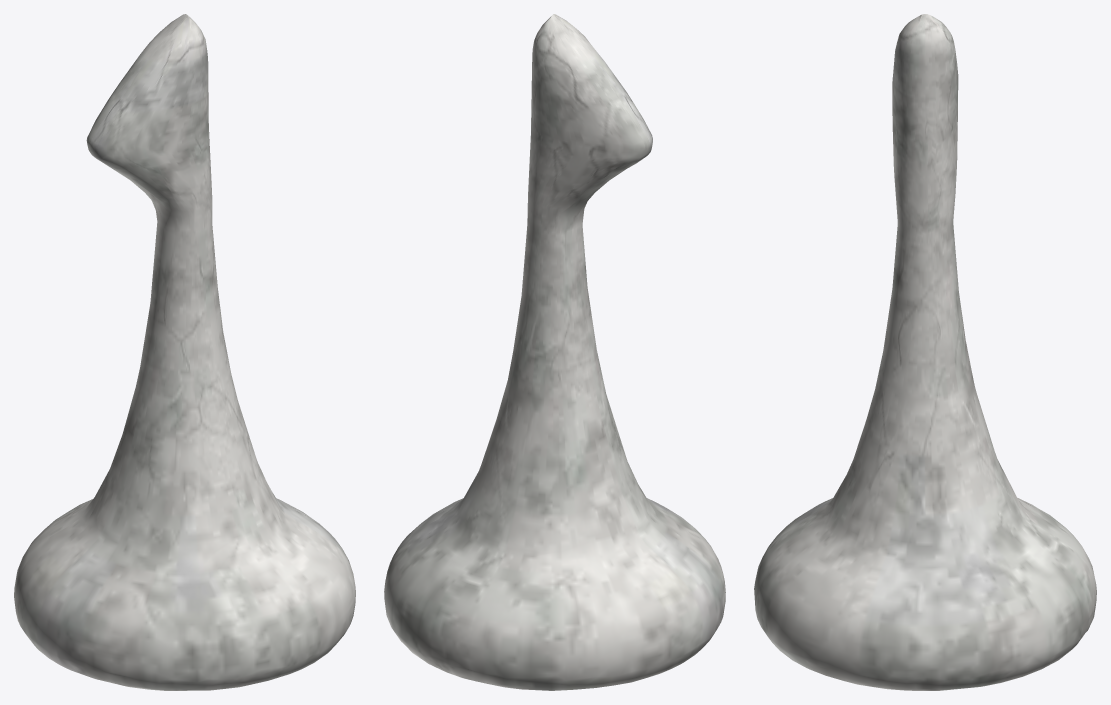
File: Serpentina_knight_white.glb
3 renders of one model, left to right at view 1: azimuth 30°, elevation 25°; view 2: azimuth 150°, elevation 25°; view 3: azimuth 270°, elevation 25°, orthographic.
Parts seen in each view (by area): view 1: Serpentina_knight_white; view 2: Serpentina_knight_white; view 3: Serpentina_knight_white.
Part boxes in pixels (<box>): Serpentina_knight_white: <box>14,14,355,690</box>; Serpentina_knight_white: <box>384,14,725,690</box>; Serpentina_knight_white: <box>754,14,1096,690</box>.
Size of the model in its own units: 0.0406 by 0.08 by 0.0406.
Materials: 1 (1 with a texture image).
